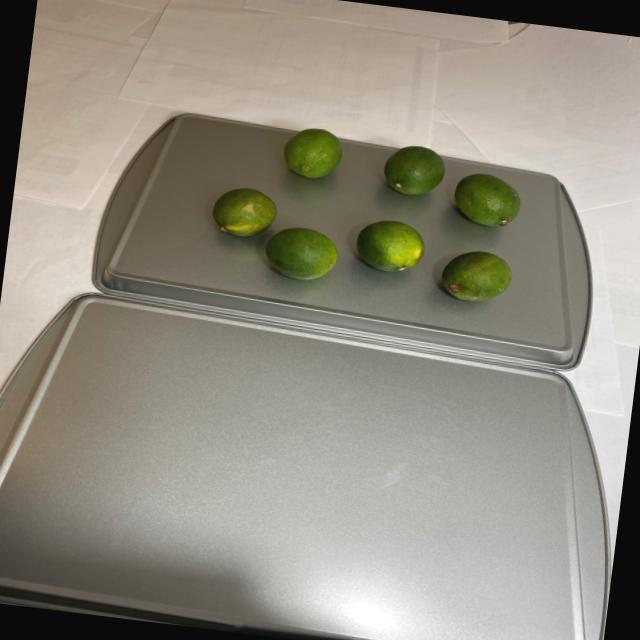lemon: (202, 119, 538, 308)
